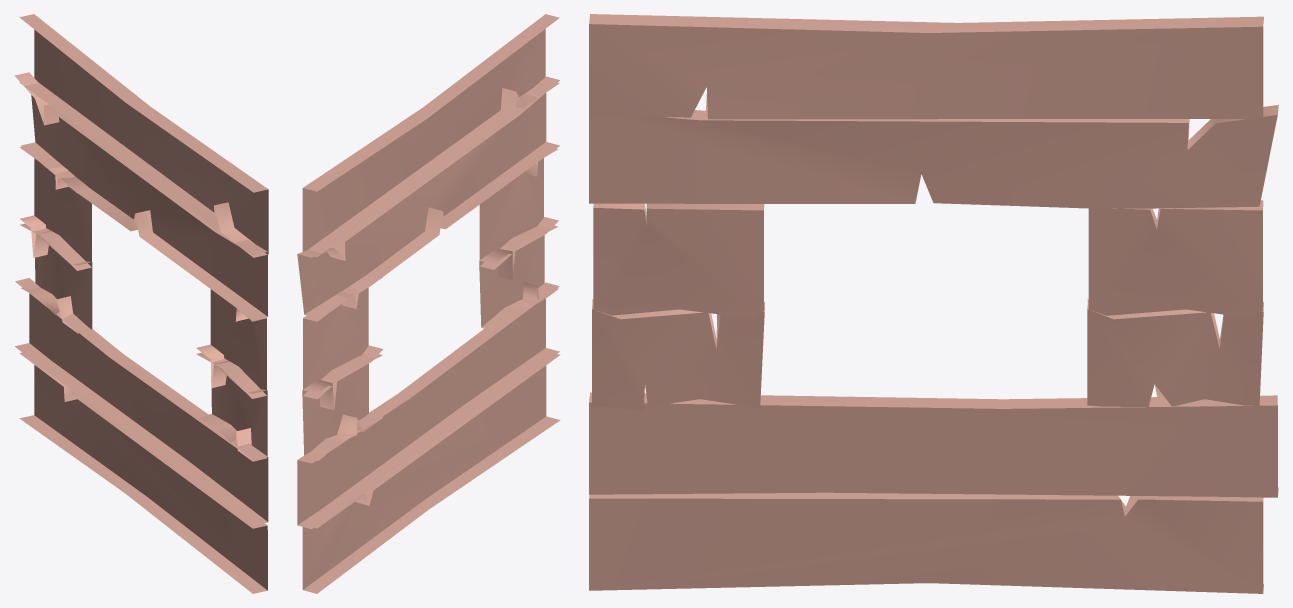
The model's file is Building_033.glb.
The picture shows the model from 3 angles, left to right: view 1: azimuth 30°, elevation 25°; view 2: azimuth 150°, elevation 25°; view 3: azimuth 270°, elevation 25°; orthographic projection. The views are drawn at different scales.
Visible parts, largest first — view 1: Building_033; view 2: Building_033; view 3: Building_033.
Boxes of the visible parts, x1,y1,x2,y2 form: Building_033: (14,14,268,593); Building_033: (297,14,560,593); Building_033: (589,14,1278,593).
Bounding box in the file's own units: 0.2137 × 4.06 × 4.48.
Materials: 1 (1 with a texture image).
